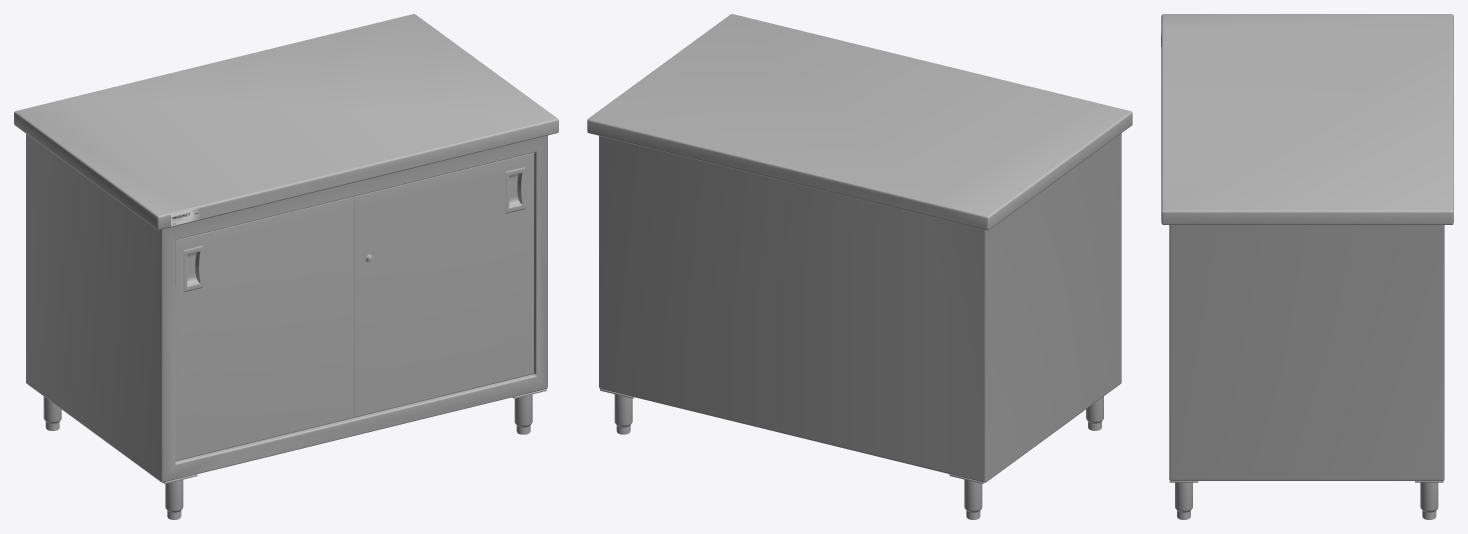
The picture shows the model from 3 angles, left to right: view 1: azimuth 30°, elevation 25°; view 2: azimuth 150°, elevation 25°; view 3: azimuth 270°, elevation 25°; orthographic projection.
Parts seen in each view (by area): view 1: C-3048-316 | Cabinet assembly; view 2: C-3048-316 | Cabinet assembly; view 3: C-3048-316 | Cabinet assembly.
Part boxes in pixels (x1,y1,x2,y2): C-3048-316 | Cabinet assembly: (14, 14, 558, 519); C-3048-316 | Cabinet assembly: (587, 14, 1132, 519); C-3048-316 | Cabinet assembly: (1161, 14, 1453, 519).
Bounding box in the file's own units: 1.22 × 0.9144 × 0.762.
2 materials, 1 textured.
